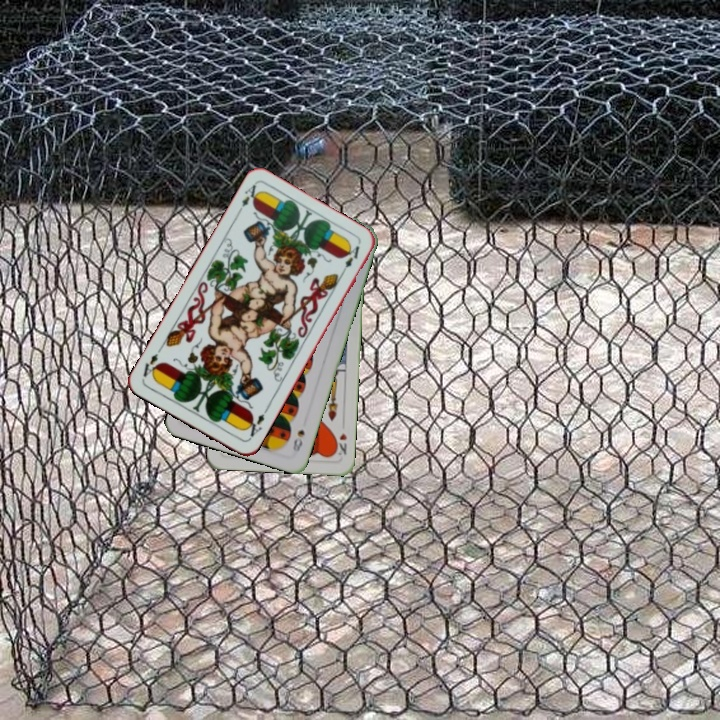EA: (233, 180, 262, 217), (241, 410, 267, 442)
HK: (331, 429, 349, 458)
S8: (289, 426, 307, 456)
